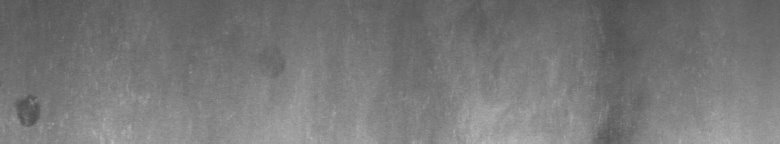fi: (9, 89, 54, 132)
